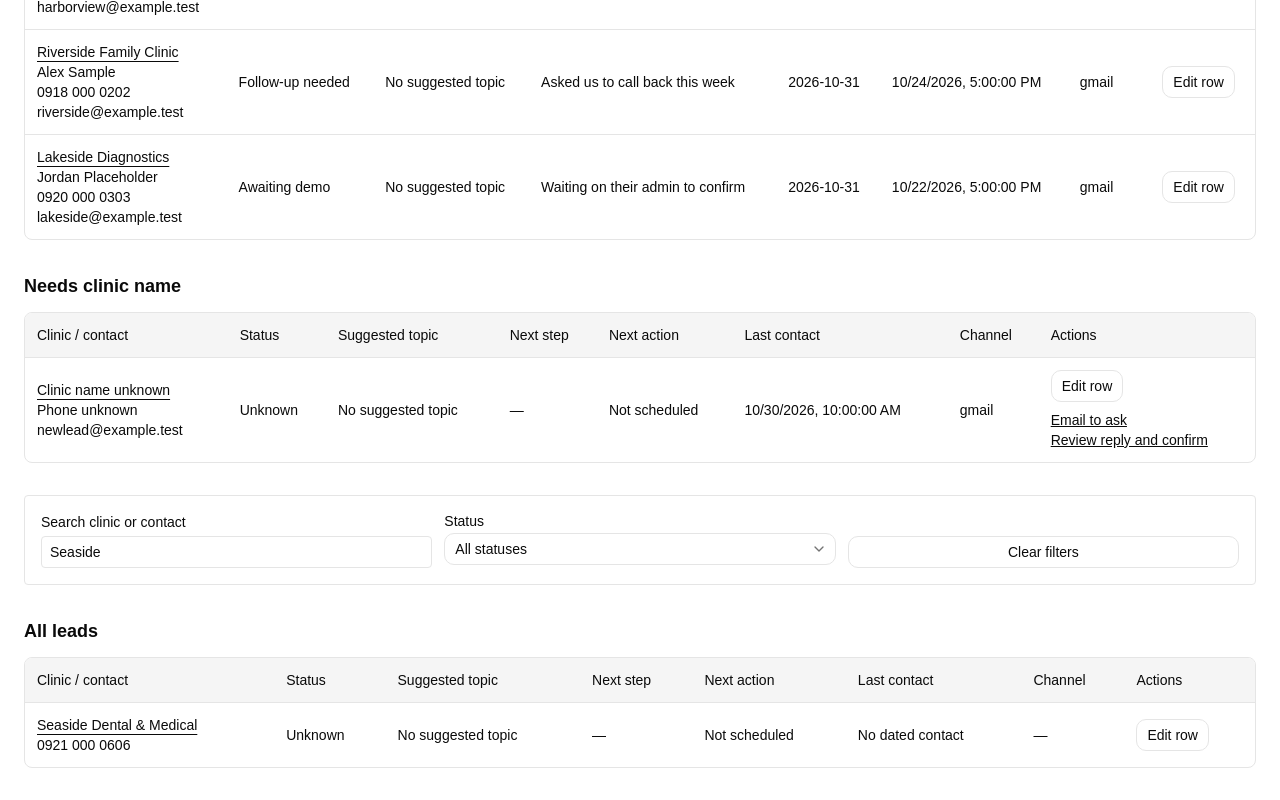
Test case: SNX-31 leads › cancels a draft and saves a row through the shared API client
(page scrolled)
Click the button "Edit row" in the row of "Seaside Dental & Medical".
click(1173, 735)  # box [1136, 719, 1209, 751]
(page scrolled)
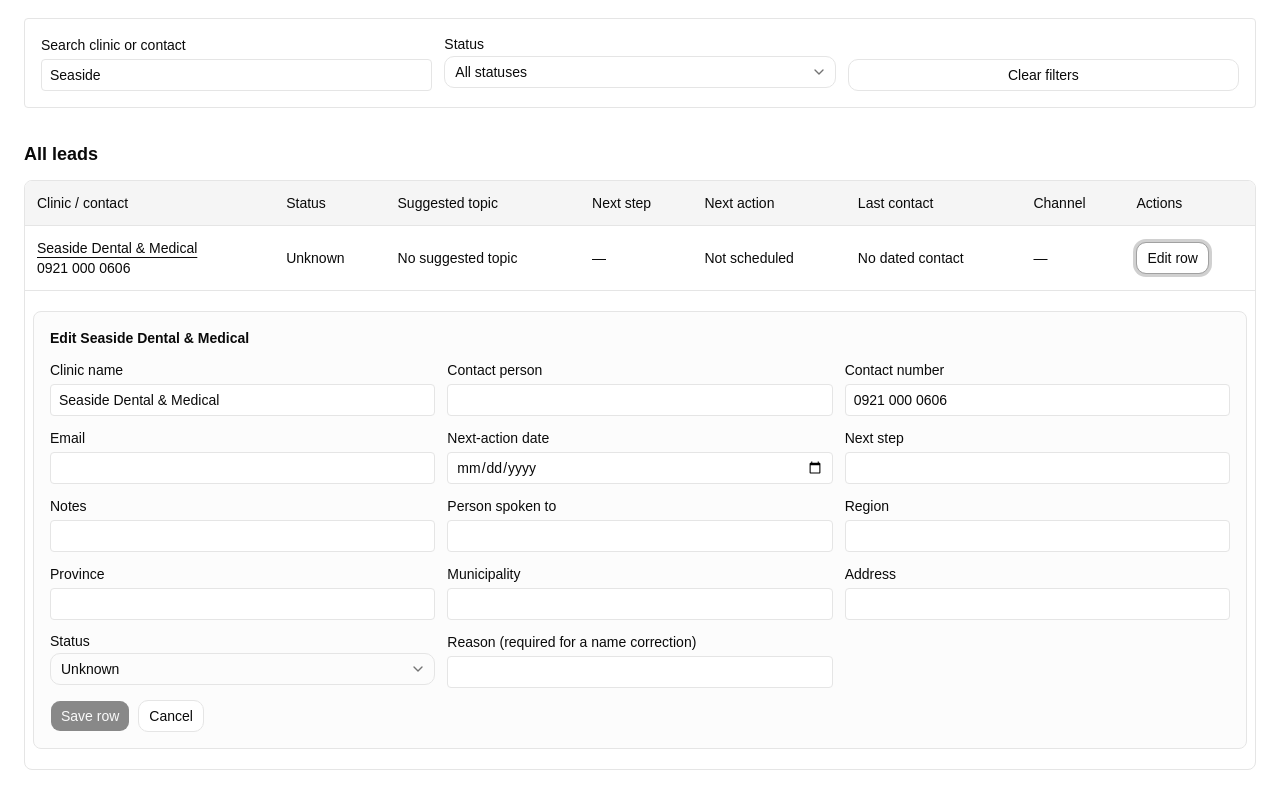
Type "Draft Person" into the field labelled "Contact person".
click(640, 400); type("Draft Person")  # box [447, 384, 833, 416]
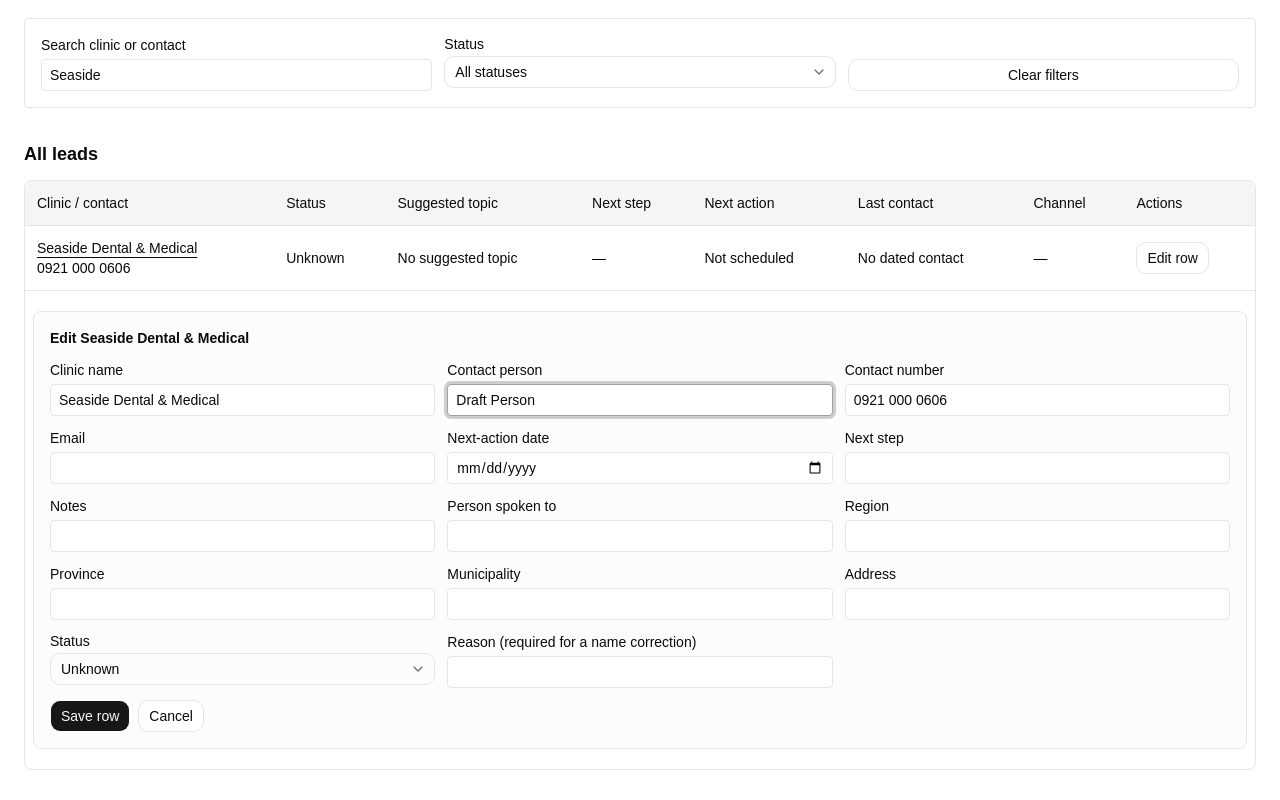
Click the button "Cancel".
click(171, 716)  # box [138, 700, 204, 732]
(page scrolled)
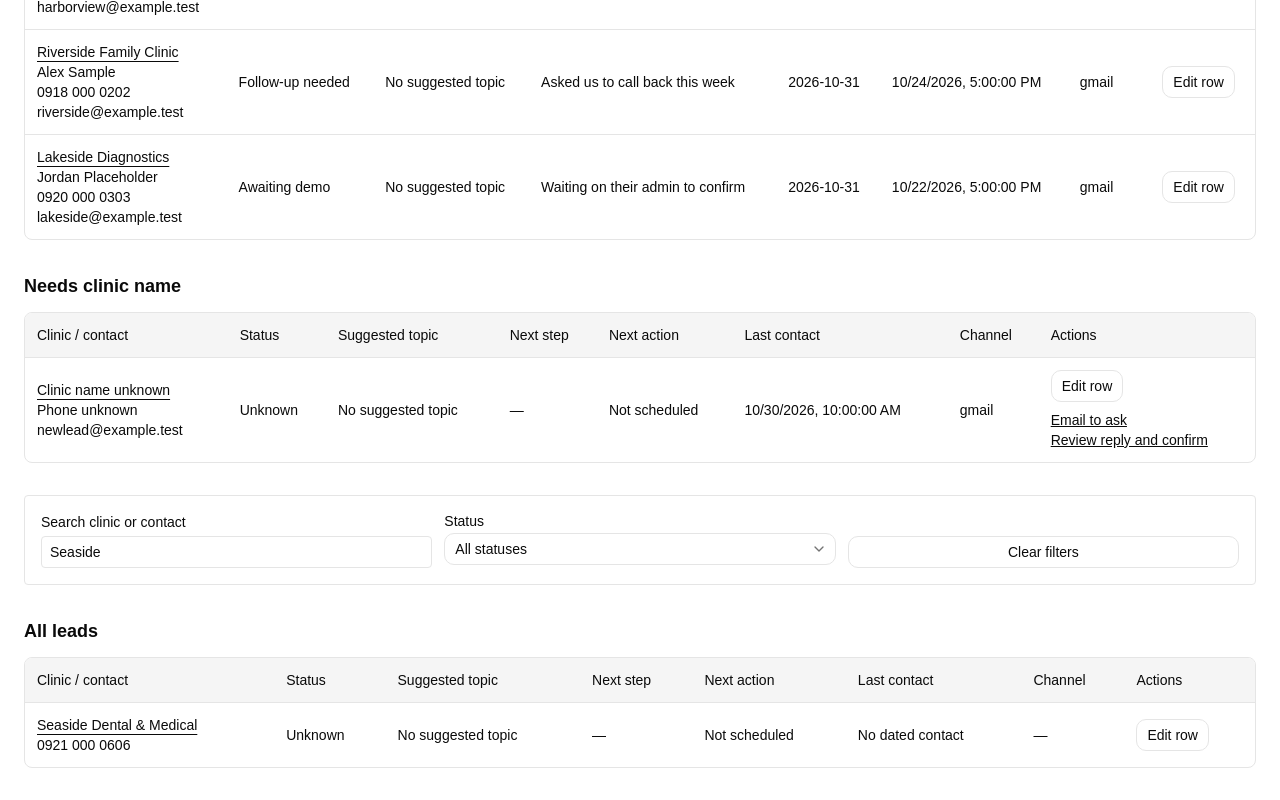
Expected: the text "Draft Person" is not shown
Click the button "Edit row" in the row of "Seaside Dental & Medical".
click(1173, 735)  # box [1136, 719, 1209, 751]
(page scrolled)
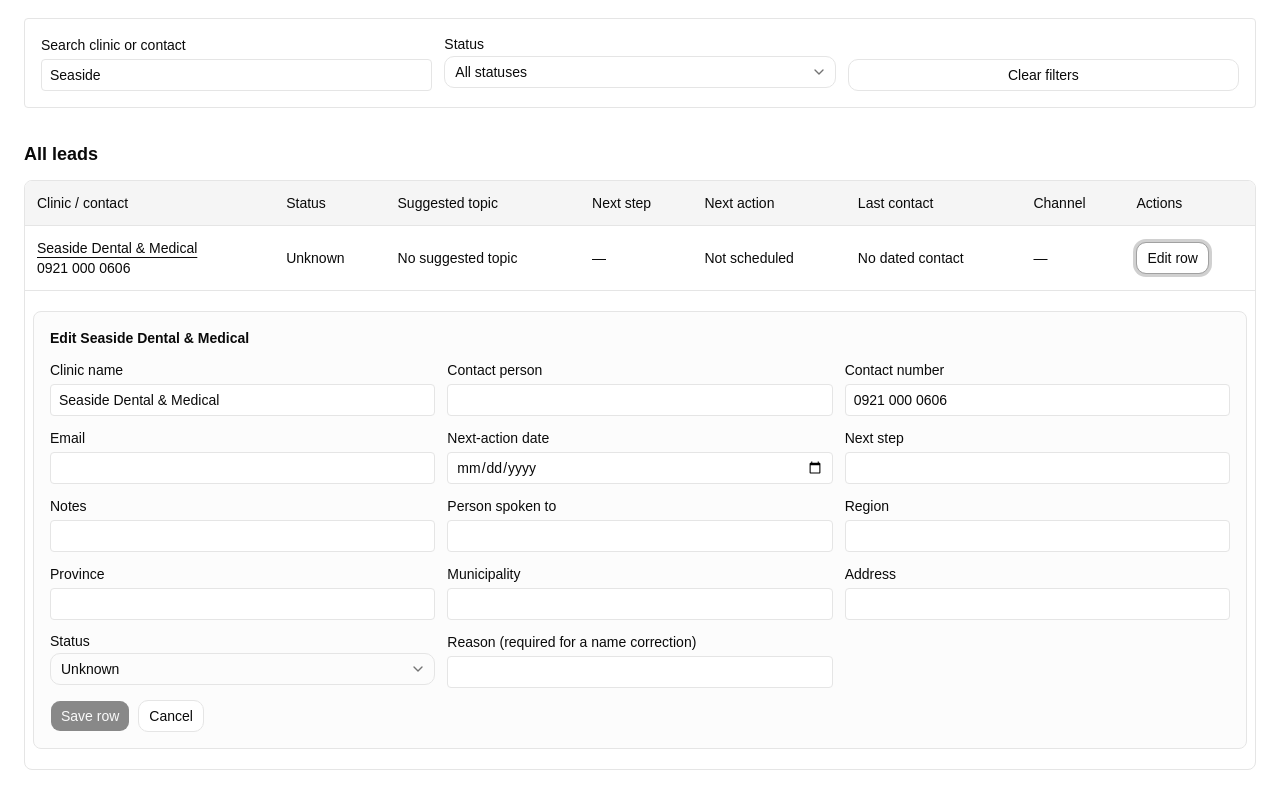
Type "Saved Person" into the field labelled "Contact person".
click(640, 400); type("Saved Person")  # box [447, 384, 833, 416]
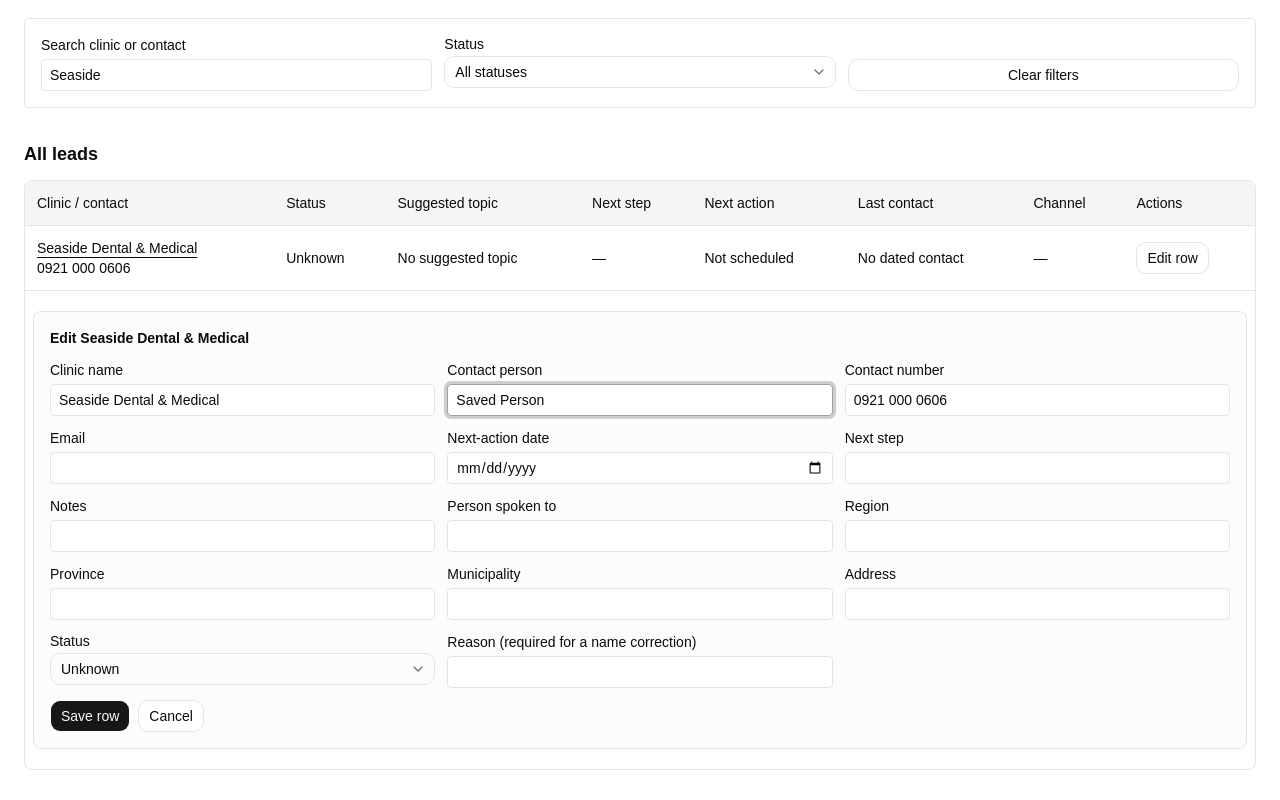
Click the button "Save row".
click(90, 716)  # box [50, 700, 130, 732]
(page scrolled)
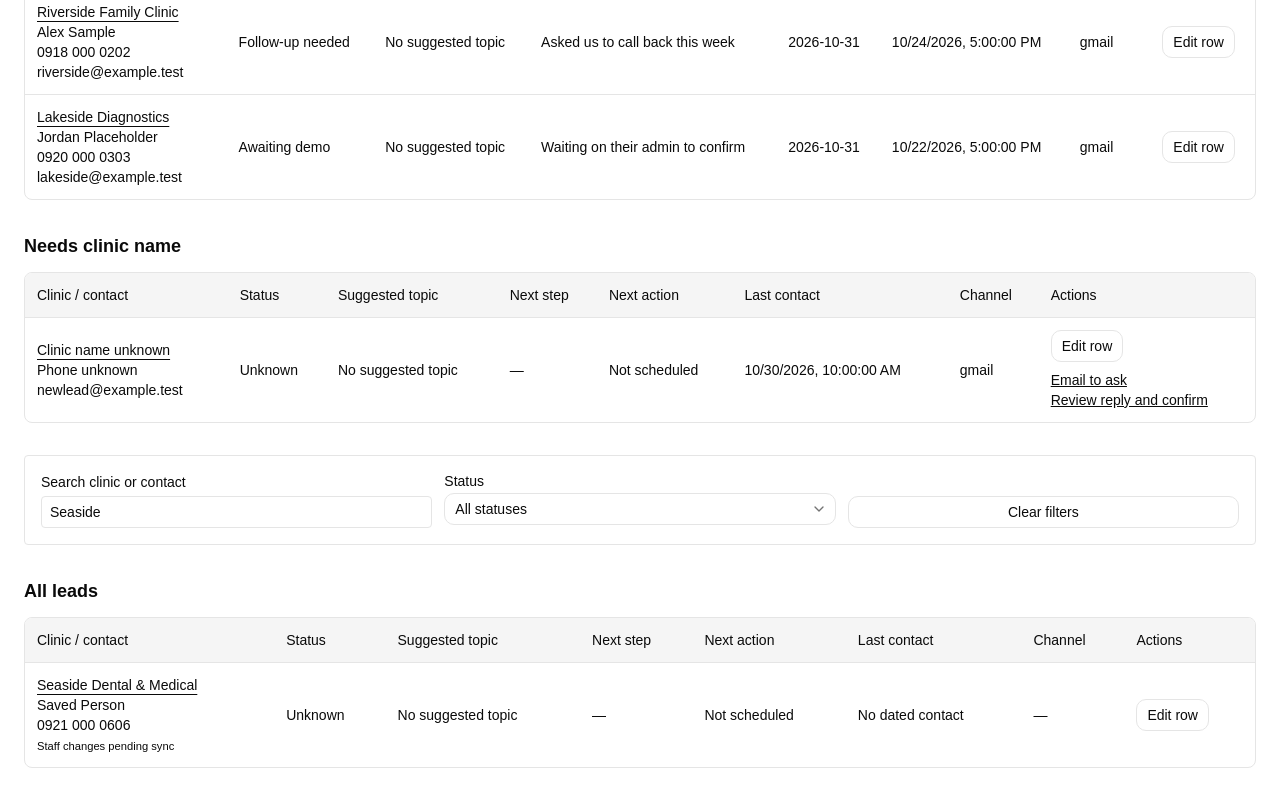
Expected: the text "Saved Person" is shown, [37, 697, 125, 713]
